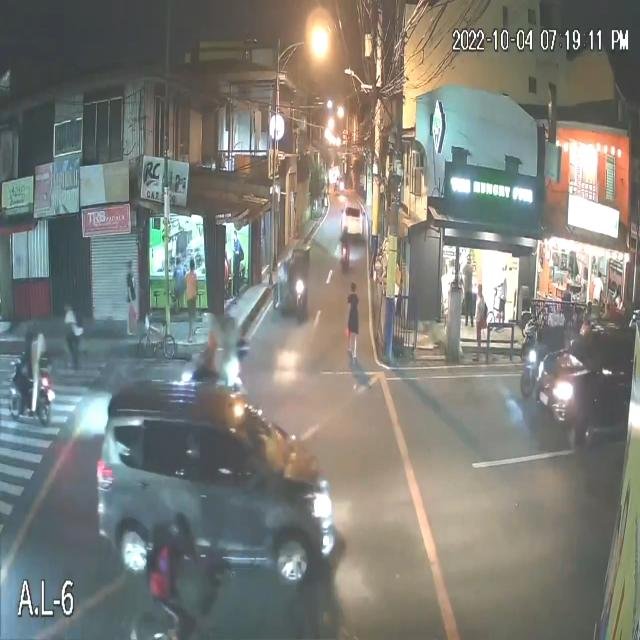Full-Faced: (206, 331, 221, 354)
